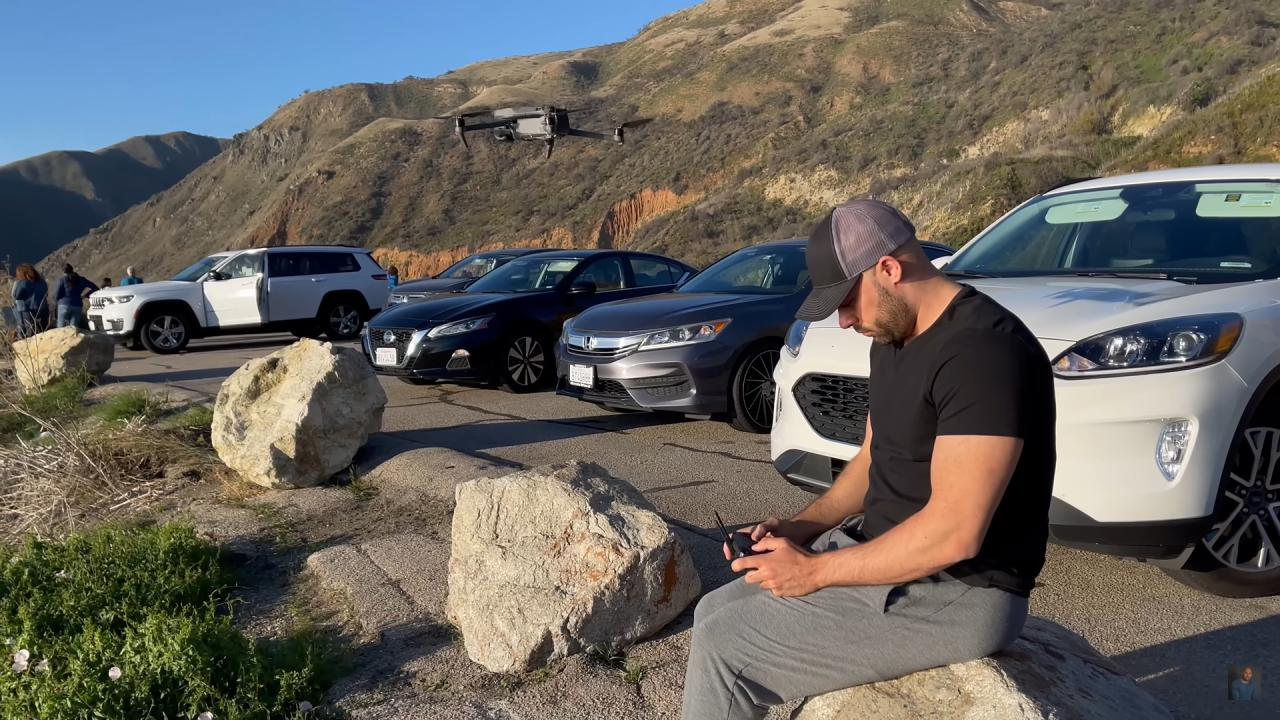Drone: (412, 92, 666, 170)
